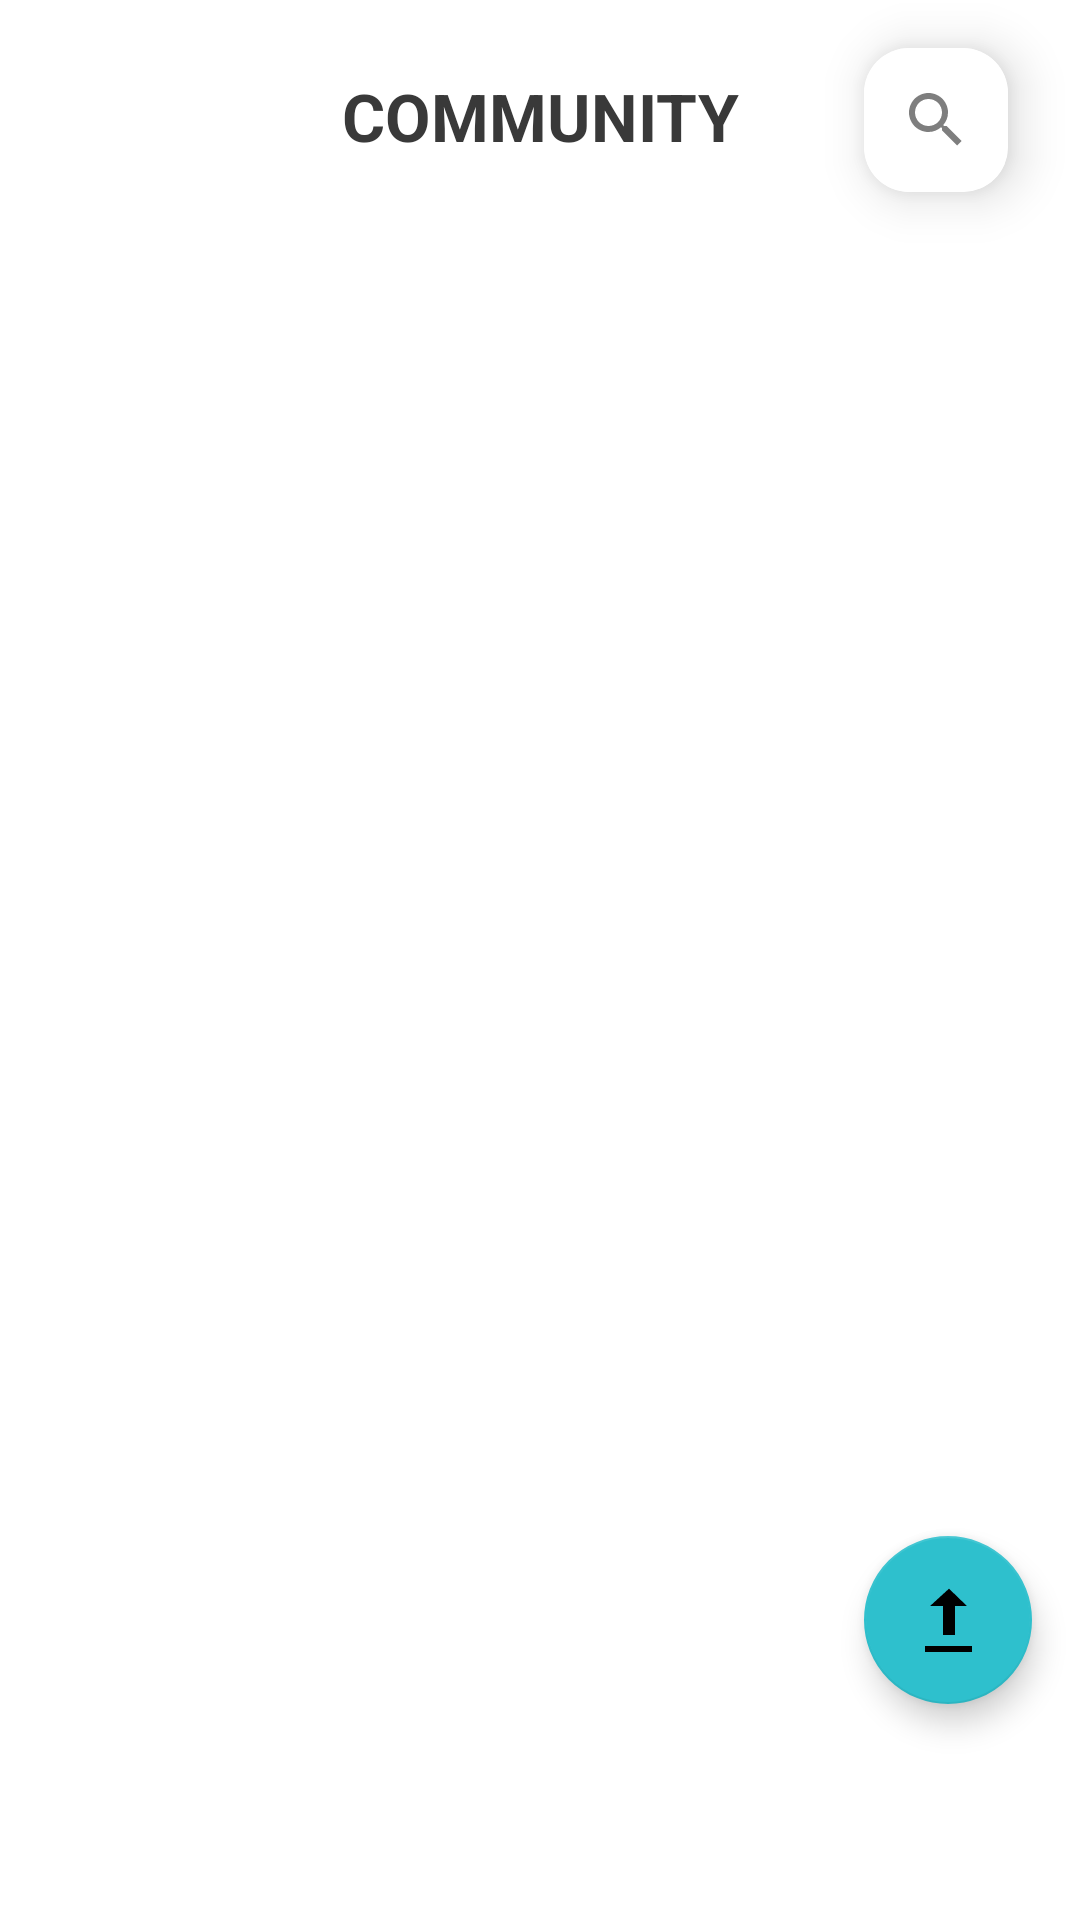

Point at icon controls on the screen. Image size 1080 x 1920, points as point (x, y).
upload done: point (948, 1620)
